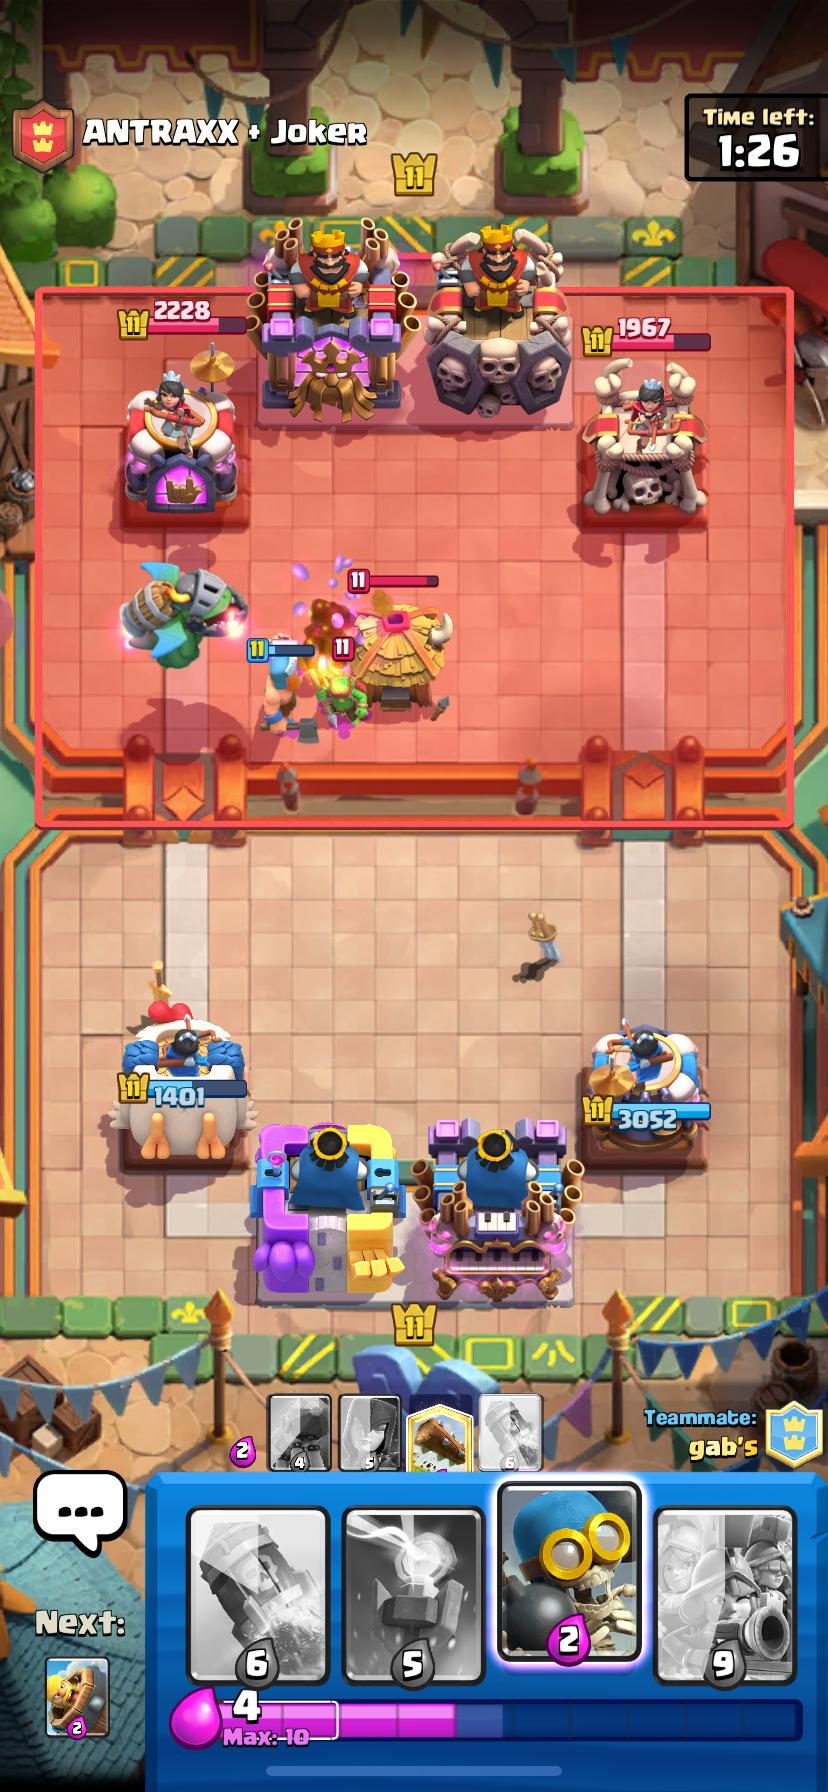EGoblinHut: (353, 605, 451, 709)
EKingTower: (247, 219, 417, 421), (423, 226, 570, 418)
ESpearGoblin: (308, 659, 368, 738)
EnemyPrincessTower: (581, 359, 707, 514), (124, 367, 238, 515)
OInfernoDrag: (121, 563, 247, 667)
OLumberjack: (247, 635, 315, 735)
OwnKingTower: (412, 1122, 580, 1304), (252, 1123, 403, 1304)
OwnPrincessTower: (109, 1013, 256, 1162), (579, 1021, 710, 1169)
